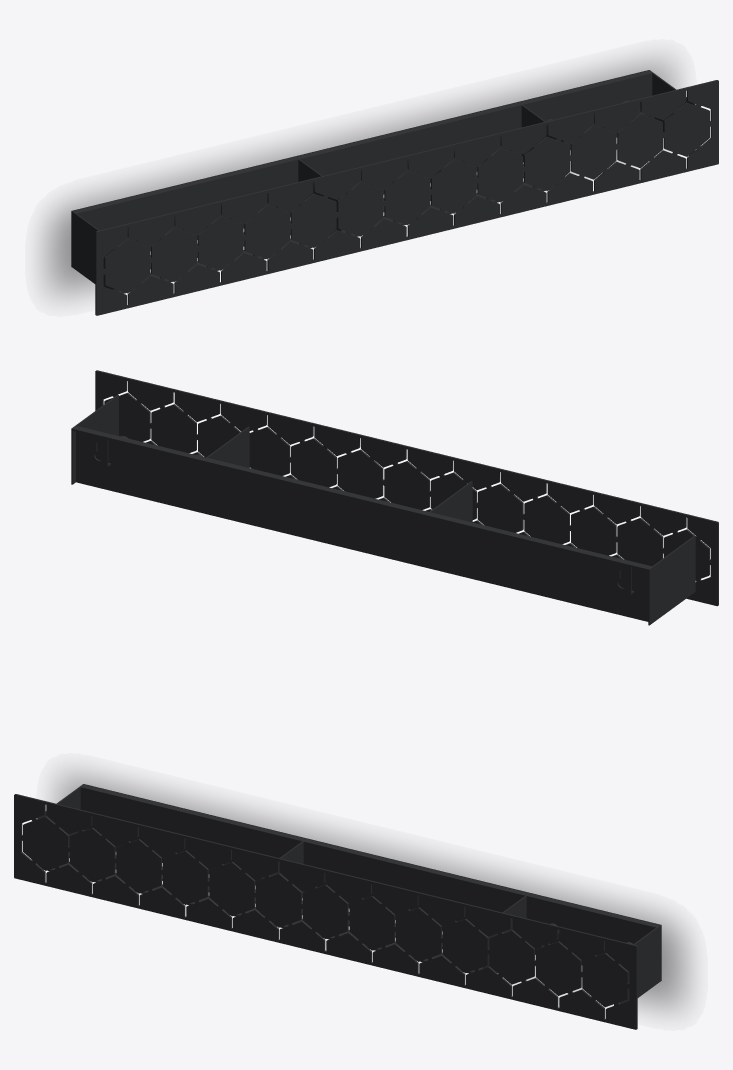
The model's file is bee-patron.fd42441d86.ar.glb.
3 views of the same model, one above another, from view 1: azimuth 30°, elevation 25°; view 2: azimuth 150°, elevation 25°; view 3: azimuth 330°, elevation 25° (orthographic).
Visible parts, largest first — view 1: NAUO1, object 2; view 2: NAUO1; view 3: NAUO1, object 2.
Part boxes in pixels (box(x1,y1,x2,y2)): NAUO1: box(71, 70, 718, 315); object 2: box(42, 59, 678, 296); NAUO1: box(71, 370, 718, 625); NAUO1: box(14, 784, 661, 1029); object 2: box(54, 773, 690, 1010).
Size of the model in its own units: 0.78 by 0.17 by 0.092.
2 materials, 1 textured.
